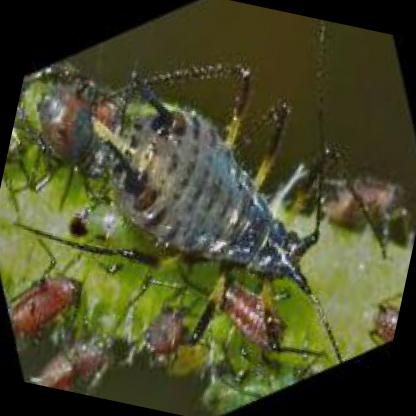uroleucon compositae: (91, 60, 319, 296)
